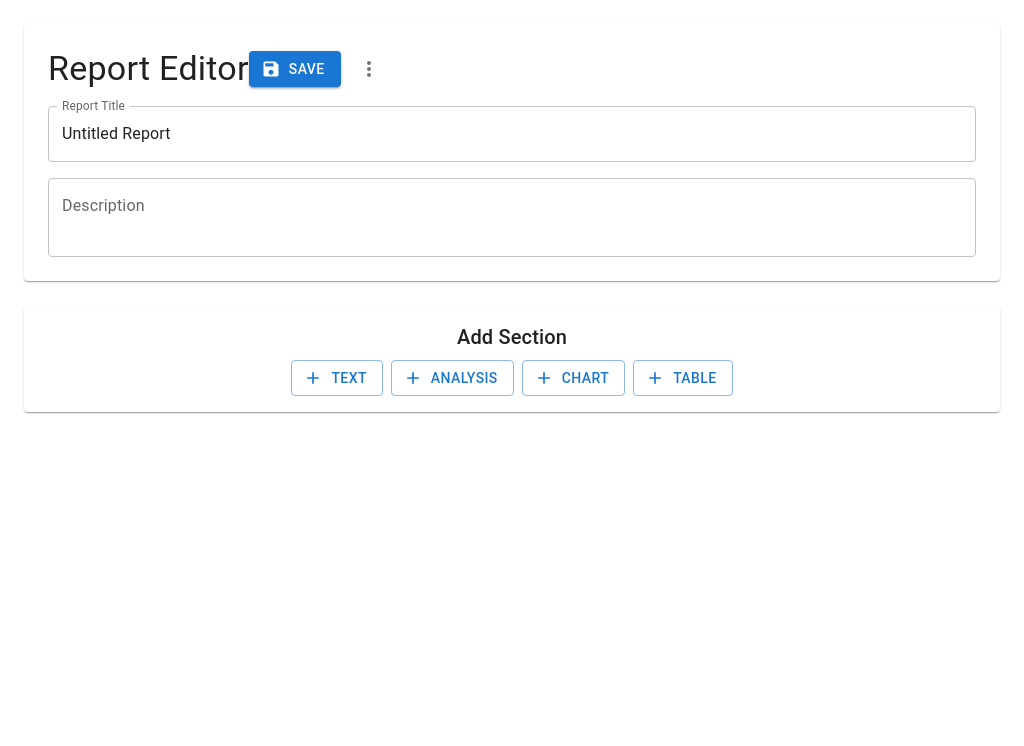
Test: ReportEditor › handles different section types
The width and height of the screenshot is (1024, 746).
// Add different section types
What coordinates should you click on to do the following:
click the button "Analysis"
I would click on:
 (452, 378)
Its box is [391,360,514,396].
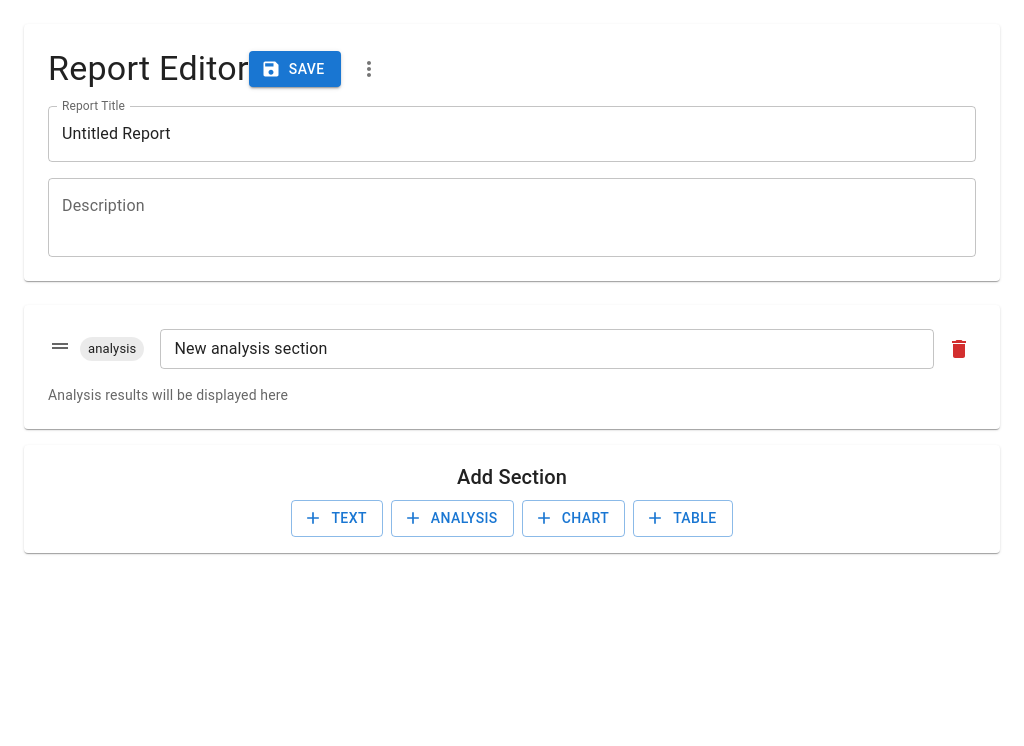
What coordinates should you click on to do the following:
click the button "Chart"
I would click on:
 (573, 518)
Its box is [522,500,625,536].
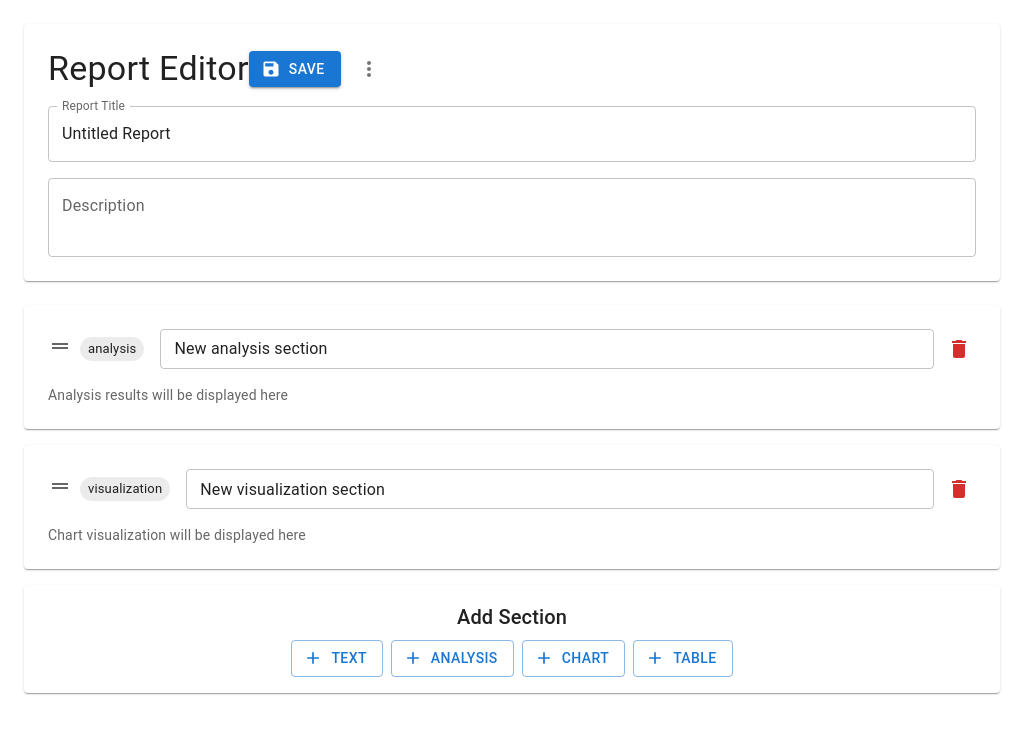
What coordinates should you click on to do the following:
click the button "Table"
I would click on:
 (683, 658)
Its box is [633,640,732,676].
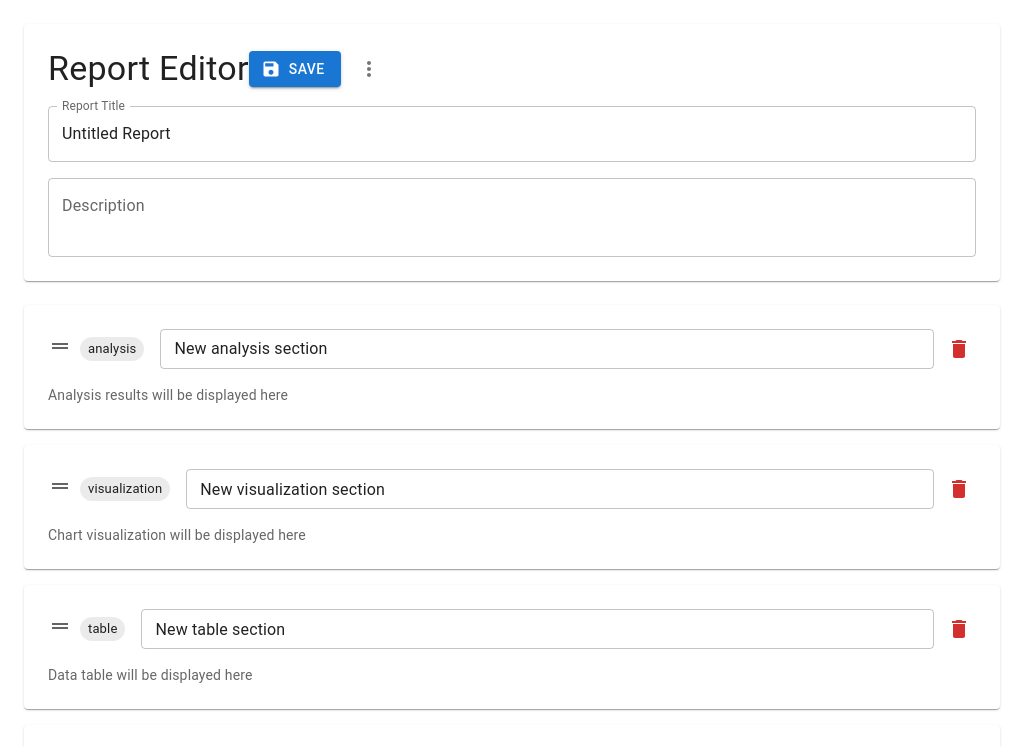
Now the 1st field showing "New analysis section" is shown, box [160,329,934,369]
Now the 2nd field showing "New visualization section" is shown, box [186,469,934,509]
Now the 3rd field showing "New table section" is shown, box [141,609,934,649]
